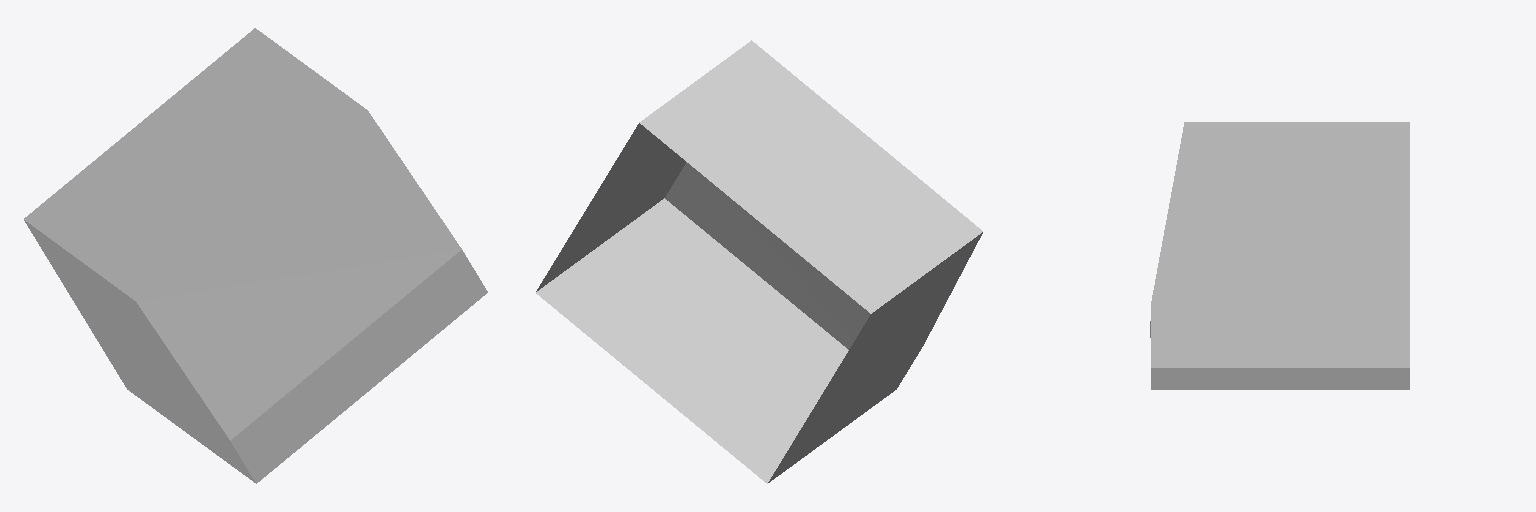
The model's file is talo_Build0000072.obj.
3 renders of one model, left to right at view 1: azimuth 30°, elevation 25°; view 2: azimuth 150°, elevation 25°; view 3: azimuth 270°, elevation 25°, orthographic.
Bounding box in the file's own units: 6.35 × 5.97 × 4.24.